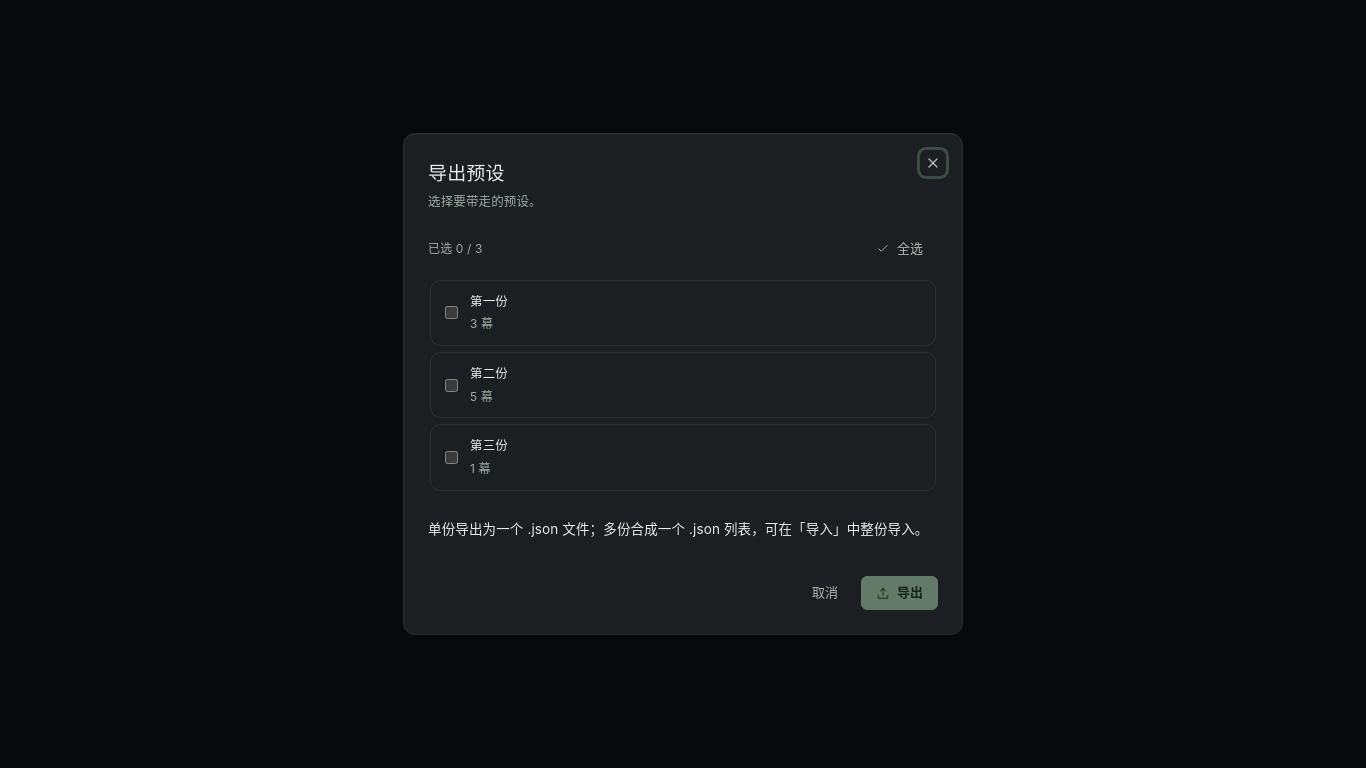
it: ExportPicker (legacy 导出…) › cannot export nothing; 全选 and 只选当前 set the picks
Check: the button "导出" is disabled, box [861,576,938,610]
Click the button "全选".
click(900, 248)  # box [861,232,938,266]
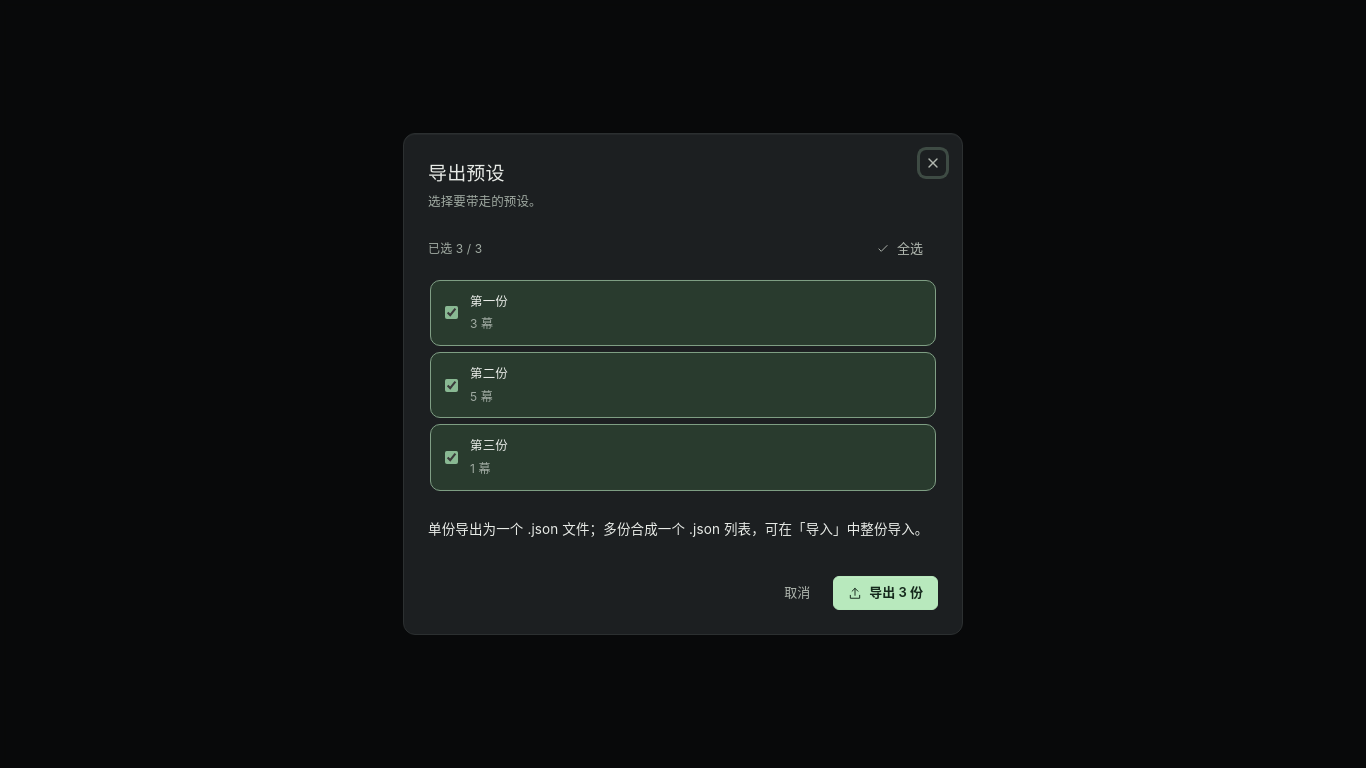
Check: the message reads "已选 3 / 3", box [428,241,482,256]
